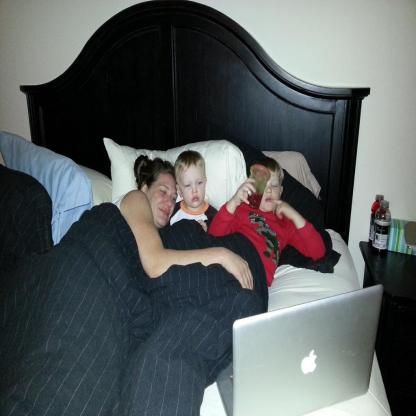board: (227, 292, 391, 412), (372, 201, 391, 259), (368, 194, 385, 246)
